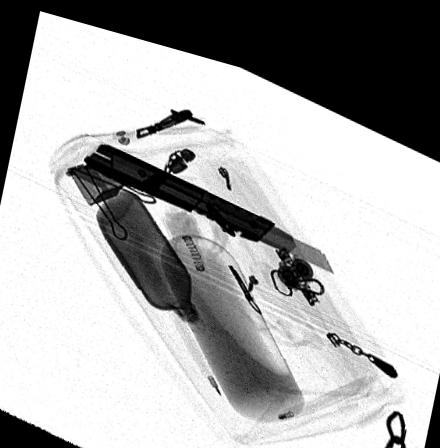Knife: (82, 135, 336, 256)
